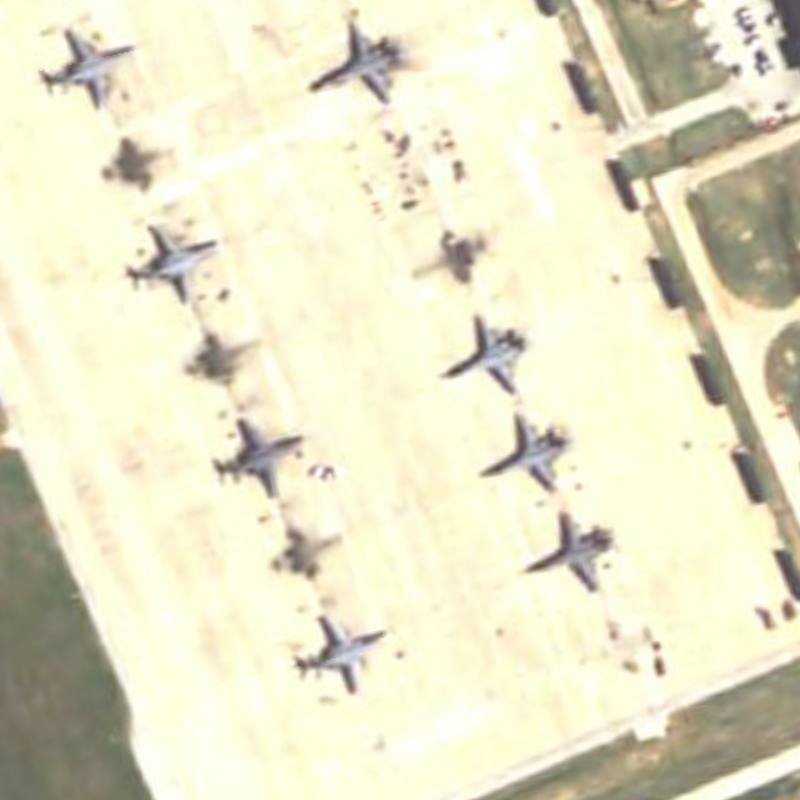A10: (298, 12, 436, 108), (518, 504, 631, 606), (121, 209, 227, 311), (37, 19, 146, 117), (213, 408, 317, 507), (439, 306, 541, 405), (293, 600, 391, 700), (476, 405, 578, 495)
